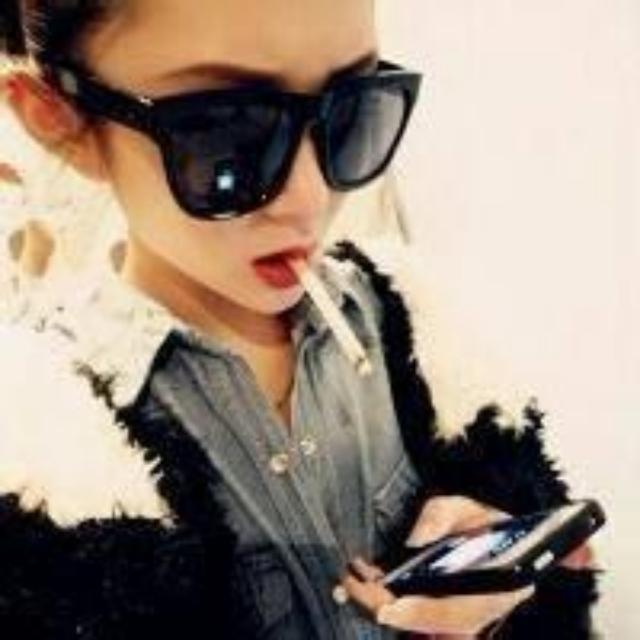Smoking: (286, 256, 374, 378)
